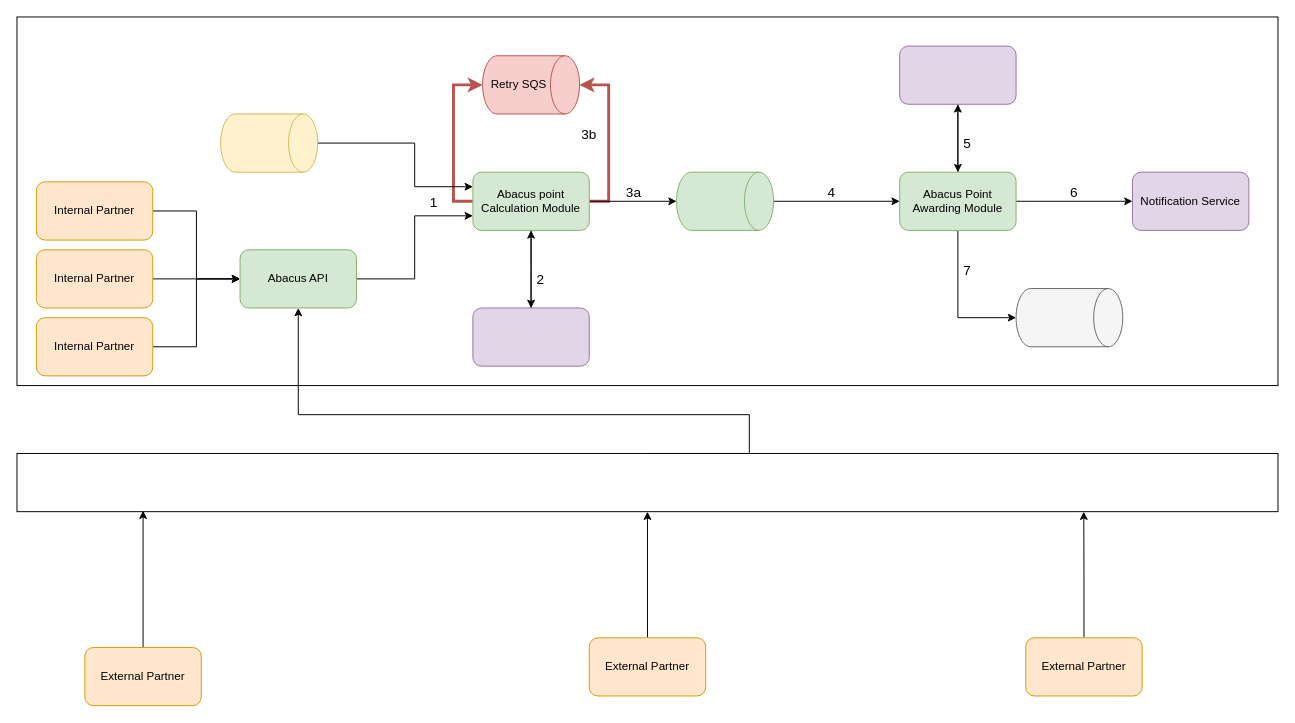
This 1295x723 diagram has some shape labels left out. The centre of each missing label's shape, as x and y in pixels:
"Ledger" belongs at point 957,74.
"PARTNER GATEWAY" belongs at point 647,482.
"Point Awarding SQS" belongs at point 725,200.
"Point Calculation Dependencies" belongs at point 530,336.
"Point Kafka Stream" belongs at point 1069,317.
"Streams" belongs at point 269,142.
